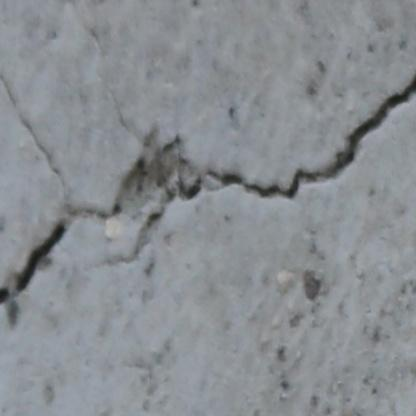Cracks: (0, 52, 416, 322), (0, 22, 21, 110)
